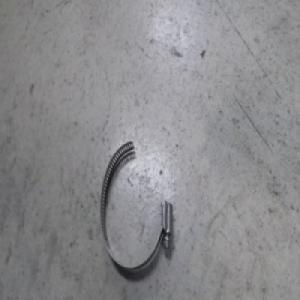AdjustableClamp: (100, 140, 172, 267)
